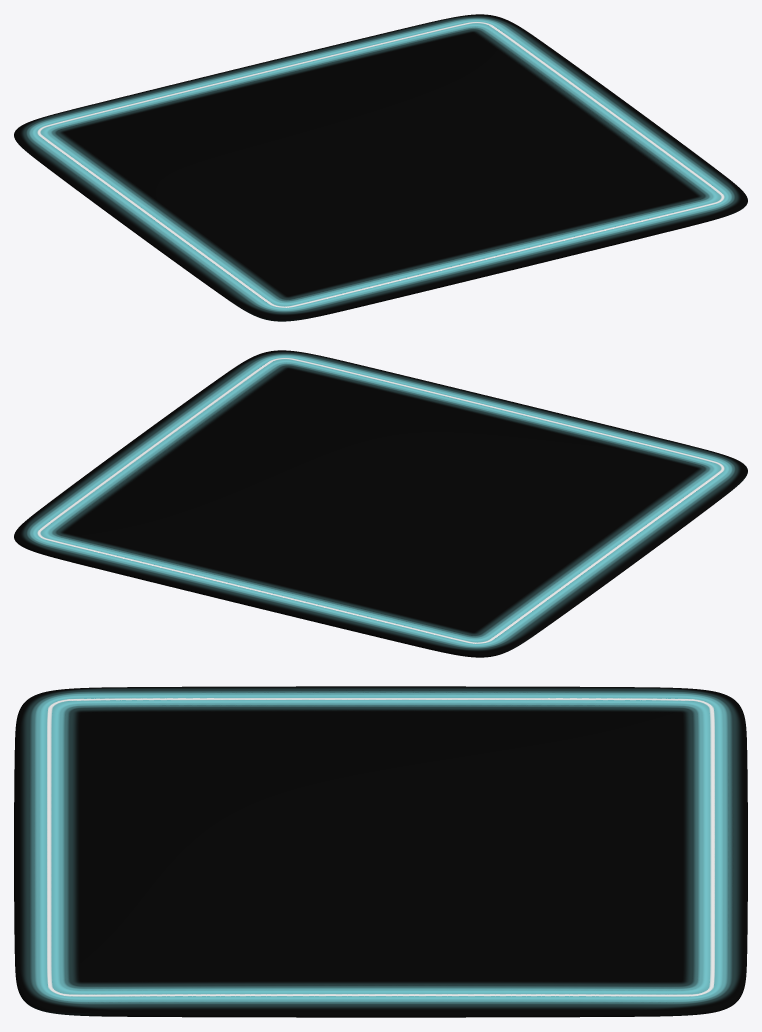
The model's file is AreaTrabajo.fbx.
3 renders of one model, top to bottom at view 1: azimuth 30°, elevation 25°; view 2: azimuth 150°, elevation 25°; view 3: azimuth 270°, elevation 25°, orthographic. The views are drawn at different scales.
Parts seen in each view (by area): view 1: Plano; view 2: Plano; view 3: Plano.
Boxes of the visible parts, <box> form: Plano: <box>14,14,747,321</box>; Plano: <box>14,350,747,657</box>; Plano: <box>14,686,747,1017</box>.
Size of the model in its own units: 320 by 6.04 by 302.
Materials: 1 (1 with a texture image).
